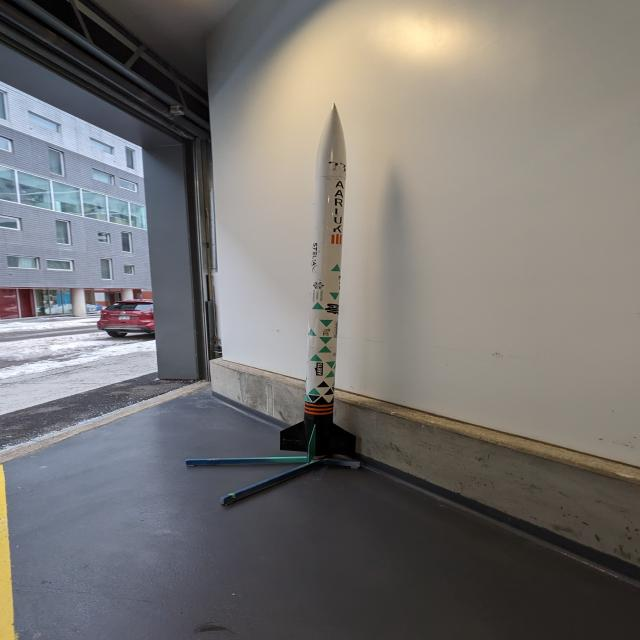Rocket: (280, 103, 356, 465)
